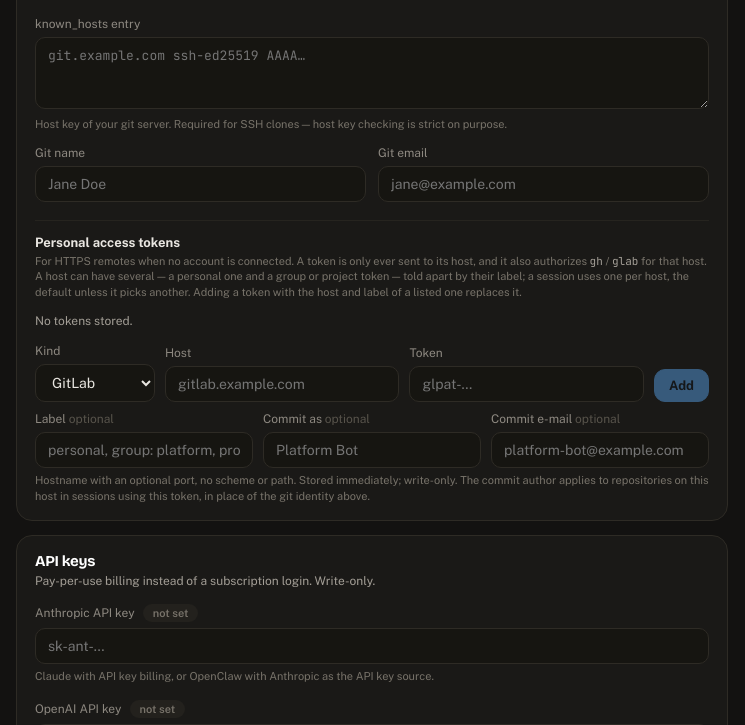
Test: Git personal access tokens › shows the backend validation message inline when adding fails
(page scrolled)
Type "bad host" into the field labelled "Host".
click(282, 384); type("bad host")  # box [165,366,400,402]
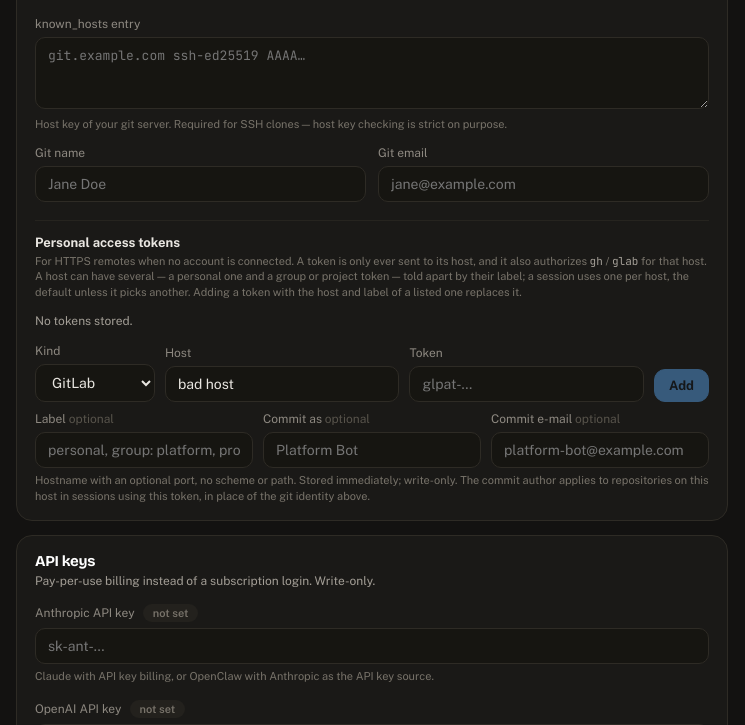
Type "glpat-x" into the password field labelled "Token".
click(527, 384); type("glpat-x")  # box [410,366,644,402]
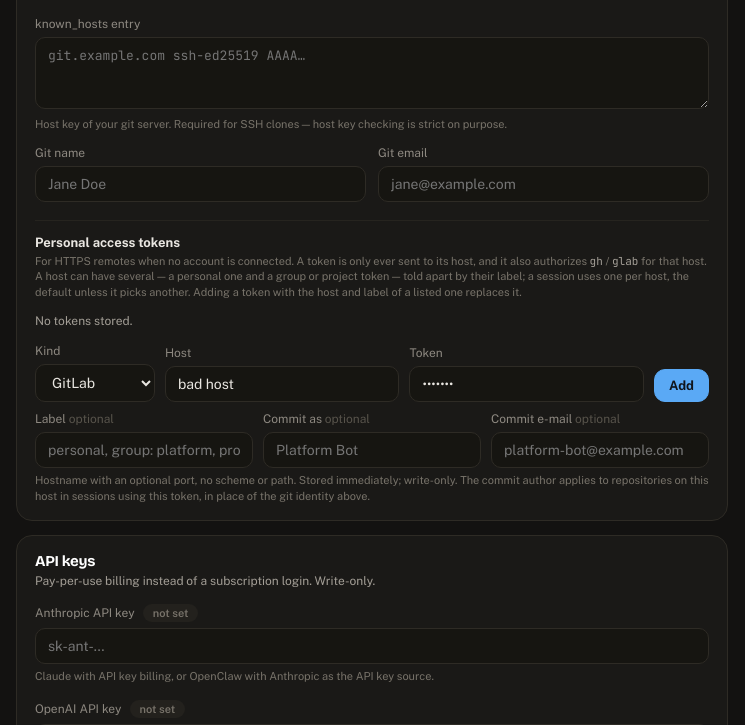
Click the button "Add".
click(682, 386)  # box [654,369,709,402]
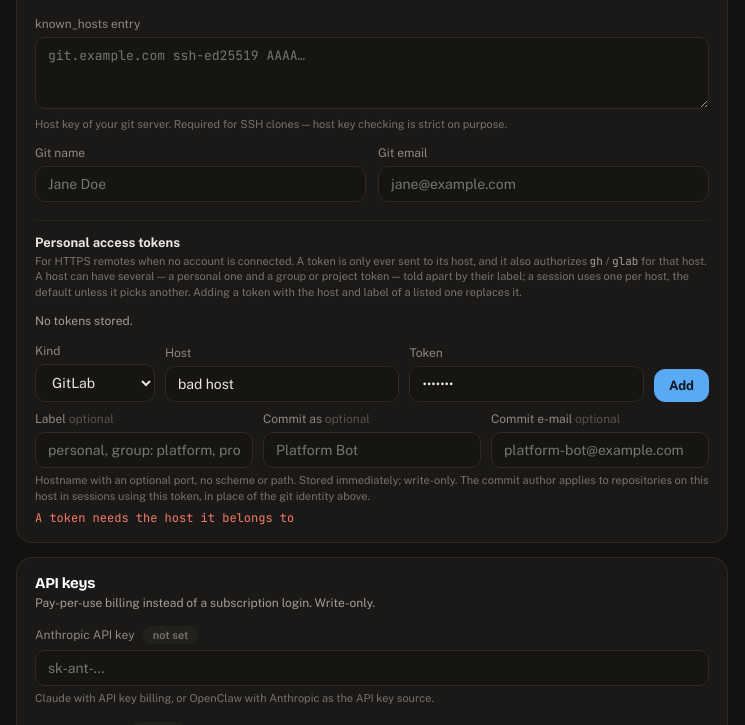
Expected: the text "A token needs the host it belongs to" is shown, [35,510,294,526]
